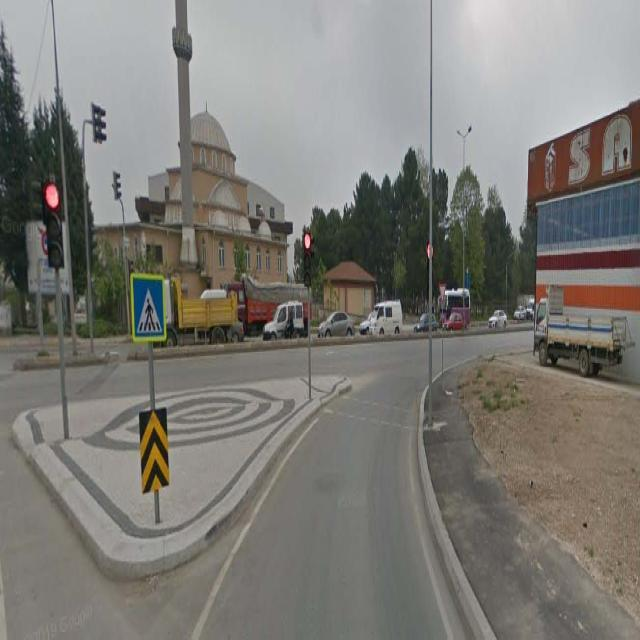kirmizi: (44, 180, 65, 266), (303, 232, 311, 290)
